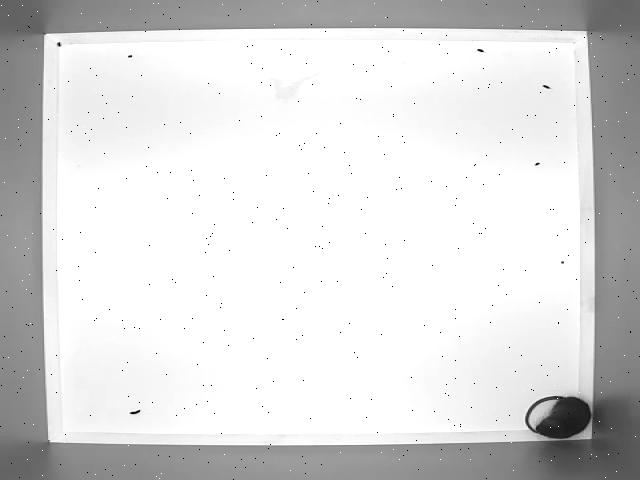Tikus: (526, 393, 592, 440)
